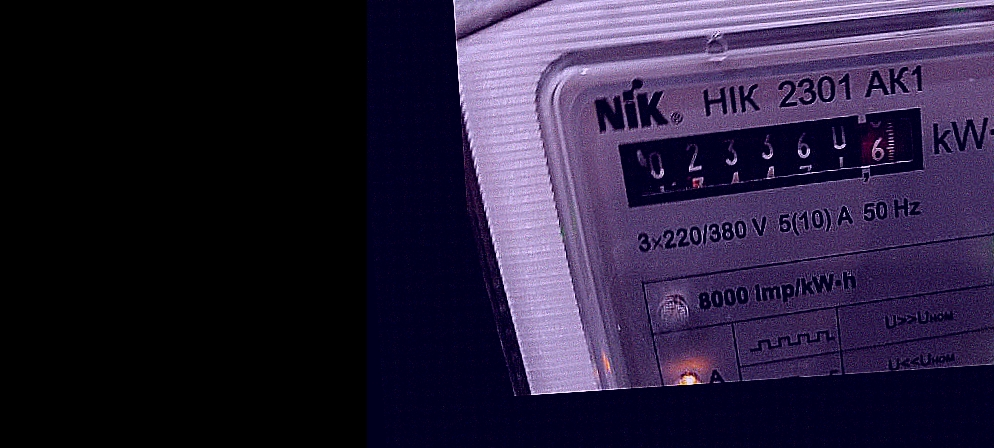0: (645, 146, 669, 181), (826, 120, 850, 152)
2: (683, 138, 705, 172)
3: (757, 126, 778, 161), (719, 135, 740, 167)
6: (792, 126, 815, 160), (867, 130, 890, 164)
screen: (601, 97, 944, 214)
